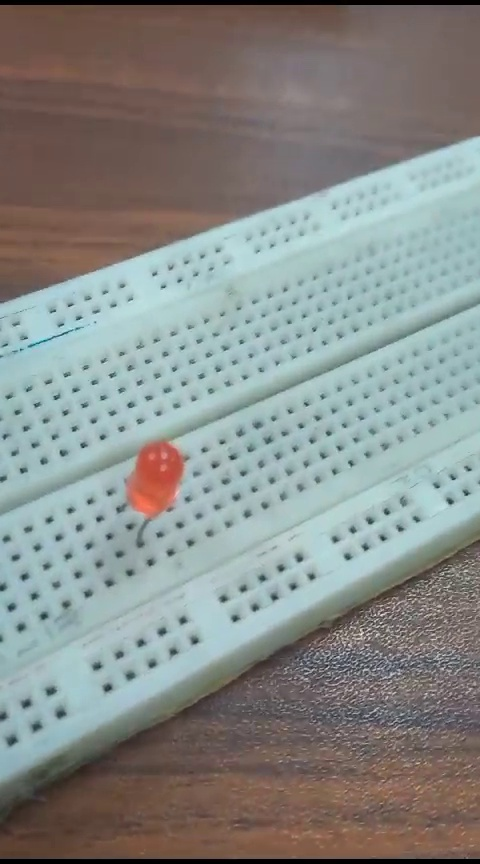LED: (111, 436, 191, 556)
